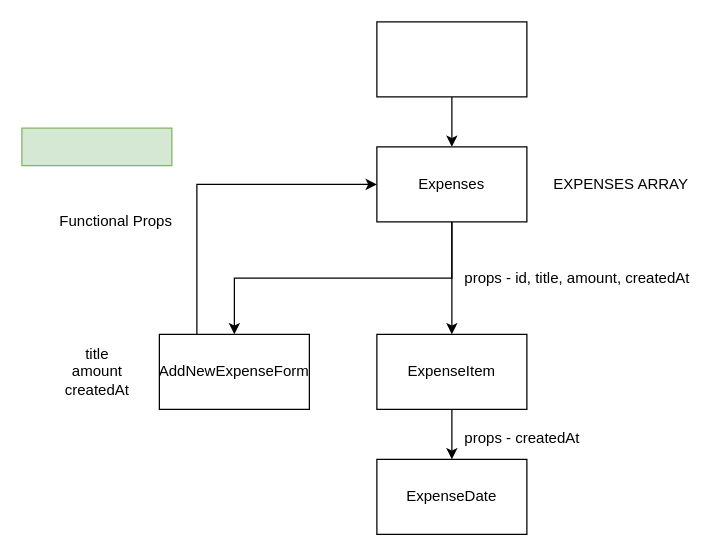
This 724x556 diagram has some shape labels left out. Each missing label, with the centre of its shape:
"App" goes at [451,59].
"Lifting-up the State" goes at [96,146].
